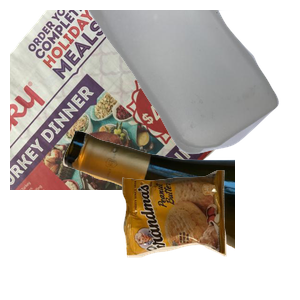glass: (60, 128, 300, 300)
paper: (10, 10, 247, 190)
plastic: (84, 10, 300, 157)
trash: (120, 168, 300, 300)
